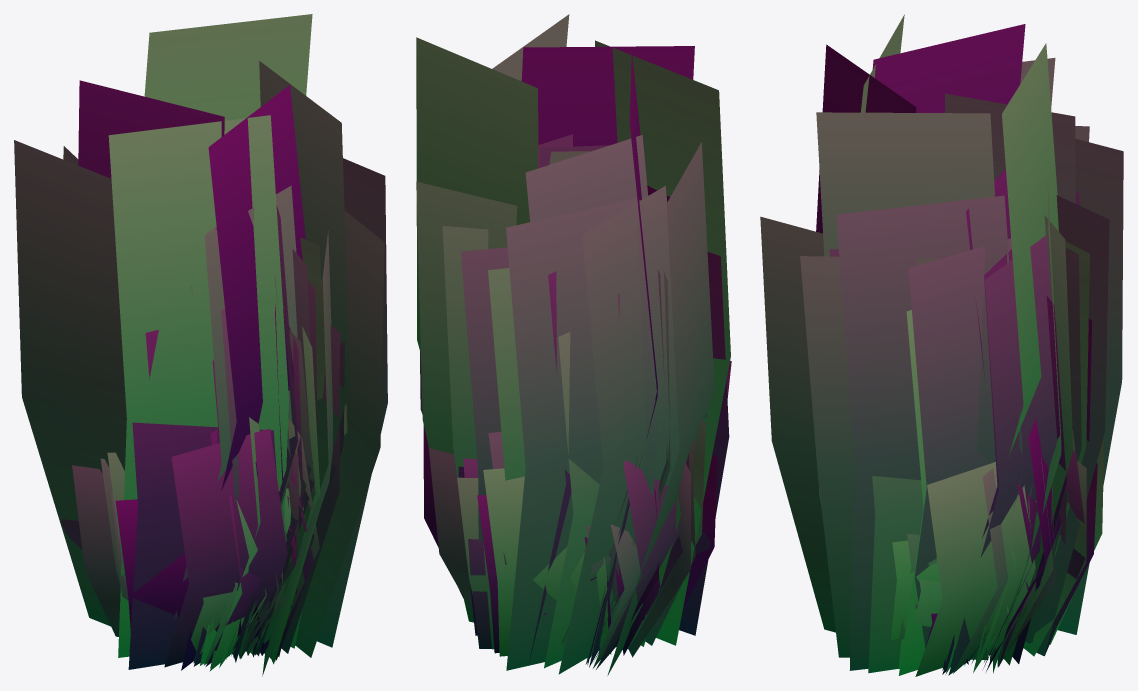
The model's file is grass_and_reeds.glb.
3 views of the same model, side by side, from view 1: azimuth 30°, elevation 25°; view 2: azimuth 150°, elevation 25°; view 3: azimuth 270°, elevation 25° (orthographic). The views are drawn at different scales.
Visible parts, largest first — view 1: euphrates_reed_mature_05_LOD0, euphrates_reed_mature_11_LOD0, tall_grass_mature_05_LOD0, euphrates_reed_mature_03_LOD0, tall_grass_mature_11_LOD0, tall_grass_mature_10_LOD0, euphrates_reed_mature_09_LOD0, euphrates_reed_mature_14_LOD0, euphrates_reed_mature_12_LOD0, euphrates_reed_mature_08_LOD0, tall_grass_mature_13_LOD0, euphrates_reed_mature_04_LOD0 (+7 smaller); view 2: euphrates_reed_mature_05_LOD0, euphrates_reed_mature_11_LOD0, euphrates_reed_mature_09_LOD0, euphrates_reed_mature_03_LOD0, tall_grass_mature_03_LOD0, euphrates_reed_mature_12_LOD0, euphrates_reed_mature_14_LOD0, tall_grass_mature_13_LOD0, tall_grass_mature_06_LOD0, tall_grass_mature_11_LOD0, tall_grass_mature_07_LOD0, tall_grass_mature_01_LOD0 (+6 smaller); view 3: euphrates_reed_mature_05_LOD0, euphrates_reed_mature_11_LOD0, euphrates_reed_mature_03_LOD0, euphrates_reed_mature_12_LOD0, tall_grass_mature_01_LOD0, euphrates_reed_mature_08_LOD0, euphrates_reed_mature_10_LOD0, euphrates_reed_mature_09_LOD0, tall_grass_mature_03_LOD0, tall_grass_mature_05_LOD0, tall_grass_mature_11_LOD0, euphrates_reed_mature_07_LOD0 (+6 smaller).
Part boxes in pixels (x1=…): euphrates_reed_mature_05_LOD0: x1=78, y1=14, x2=387, y2=670; euphrates_reed_mature_11_LOD0: x1=14, y1=140, x2=332, y2=676; tall_grass_mature_05_LOD0: x1=164, y1=419, x2=305, y2=667; euphrates_reed_mature_03_LOD0: x1=145, y1=210, x2=384, y2=657; tall_grass_mature_11_LOD0: x1=72, y1=452, x2=298, y2=671; tall_grass_mature_10_LOD0: x1=115, y1=499, x2=259, y2=657; euphrates_reed_mature_09_LOD0: x1=63, y1=146, x2=325, y2=662; euphrates_reed_mature_14_LOD0: x1=281, y1=325, x2=339, y2=653; euphrates_reed_mature_12_LOD0: x1=255, y1=326, x2=320, y2=664; euphrates_reed_mature_08_LOD0: x1=210, y1=237, x2=320, y2=667; tall_grass_mature_13_LOD0: x1=61, y1=429, x2=313, y2=660; euphrates_reed_mature_04_LOD0: x1=194, y1=249, x2=313, y2=666; euphrates_reed_mature_05_LOD0: x1=416, y1=14, x2=730, y2=665; euphrates_reed_mature_11_LOD0: x1=442, y1=142, x2=729, y2=675; euphrates_reed_mature_09_LOD0: x1=458, y1=134, x2=679, y2=674; euphrates_reed_mature_03_LOD0: x1=416, y1=135, x2=648, y2=667; tall_grass_mature_03_LOD0: x1=483, y1=453, x2=688, y2=656; euphrates_reed_mature_12_LOD0: x1=544, y1=332, x2=706, y2=668; euphrates_reed_mature_14_LOD0: x1=488, y1=268, x2=525, y2=480; tall_grass_mature_13_LOD0: x1=596, y1=442, x2=694, y2=669; tall_grass_mature_06_LOD0: x1=428, y1=447, x2=659, y2=652; tall_grass_mature_11_LOD0: x1=423, y1=425, x2=690, y2=657; tall_grass_mature_07_LOD0: x1=457, y1=477, x2=640, y2=668; tall_grass_mature_01_LOD0: x1=488, y1=420, x2=705, y2=603; euphrates_reed_mature_05_LOD0: x1=816, y1=14, x2=1109, y2=674; euphrates_reed_mature_11_LOD0: x1=760, y1=58, x2=1123, y2=675; euphrates_reed_mature_03_LOD0: x1=800, y1=93, x2=1075, y2=673; euphrates_reed_mature_12_LOD0: x1=819, y1=238, x2=1032, y2=671; tall_grass_mature_01_LOD0: x1=915, y1=462, x2=1096, y2=676; euphrates_reed_mature_08_LOD0: x1=948, y1=235, x2=1066, y2=675; euphrates_reed_mature_10_LOD0: x1=1025, y1=247, x2=1081, y2=643; euphrates_reed_mature_09_LOD0: x1=942, y1=126, x2=1089, y2=670; tall_grass_mature_03_LOD0: x1=890, y1=435, x2=1104, y2=644; tall_grass_mature_05_LOD0: x1=898, y1=468, x2=1008, y2=673; tall_grass_mature_11_LOD0: x1=986, y1=418, x2=1060, y2=671; euphrates_reed_mature_07_LOD0: x1=1055, y1=241, x2=1089, y2=556.
Size of what is drawn, in the model's own units: 1.44 by 2.7 by 1.52.
